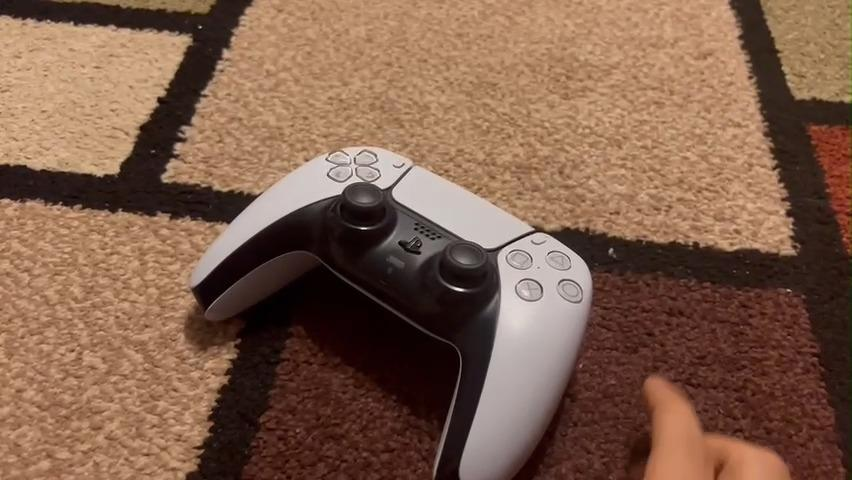controller: (183, 130, 621, 480)
